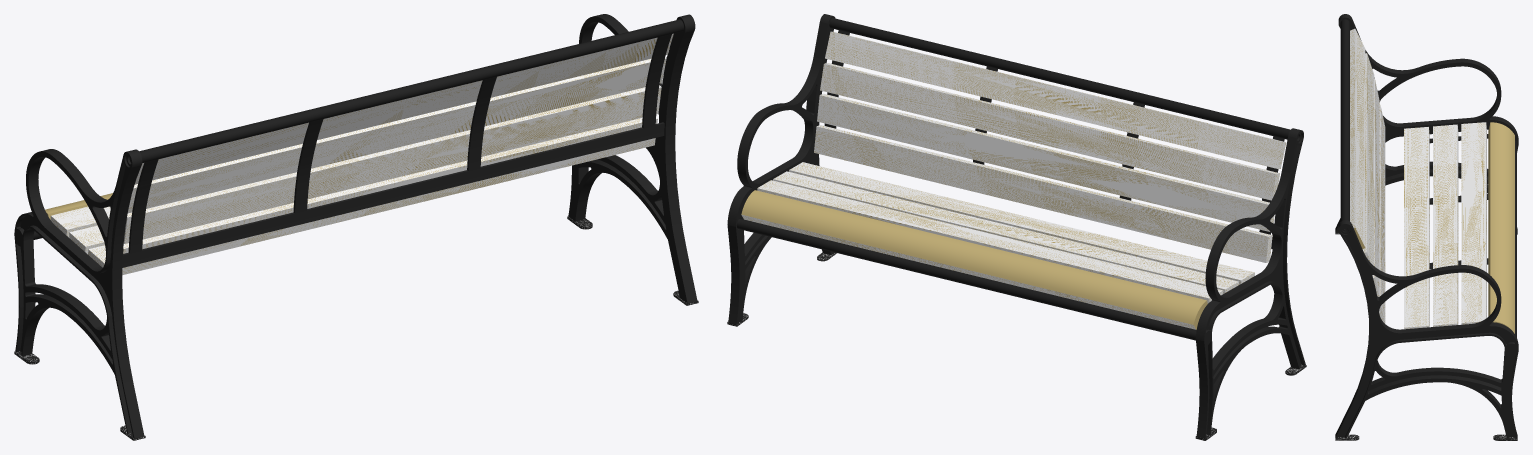
3 views of the same model, side by side, from view 1: azimuth 30°, elevation 25°; view 2: azimuth 150°, elevation 25°; view 3: azimuth 270°, elevation 25° (orthographic). The views are drawn at different scales.
Visible parts, largest first — view 1: mesh4_mesh4-geometry, mesh52_mesh52-geometry, mesh3_mesh3-geometry, mesh14_mesh14-geometry, mesh2_mesh2-geometry, mesh5_mesh5-geometry, mesh36_mesh36-geometry, mesh31_mesh31-geometry, mesh8_mesh8-geometry; view 2: mesh9_mesh9-geometry, mesh3_mesh3-geometry, mesh2_mesh2-geometry, mesh5_mesh5-geometry, mesh4_mesh4-geometry, mesh52_mesh52-geometry, mesh36_mesh36-geometry, mesh8_mesh8-geometry, mesh6_mesh6-geometry, mesh7_mesh7-geometry, mesh31_mesh31-geometry, mesh32_mesh32-geometry (+1 smaller); view 3: mesh36_mesh36-geometry, mesh9_mesh9-geometry, mesh7_mesh7-geometry, mesh8_mesh8-geometry, mesh6_mesh6-geometry, mesh52_mesh52-geometry, mesh2_mesh2-geometry, mesh3_mesh3-geometry, mesh31_mesh31-geometry, mesh5_mesh5-geometry, mesh4_mesh4-geometry, mesh32_mesh32-geometry.
Boxes of the visible parts, left/top/right/bottom form: mesh4_mesh4-geometry: left=123, top=85, right=661, bottom=243; mesh52_mesh52-geometry: left=14, top=149, right=144, bottom=438; mesh3_mesh3-geometry: left=127, top=57, right=666, bottom=213; mesh14_mesh14-geometry: left=122, top=34, right=671, bottom=267; mesh2_mesh2-geometry: left=134, top=33, right=673, bottom=184; mesh5_mesh5-geometry: left=122, top=117, right=657, bottom=275; mesh36_mesh36-geometry: left=568, top=14, right=697, bottom=303; mesh31_mesh31-geometry: left=139, top=19, right=683, bottom=162; mesh8_mesh8-geometry: left=50, top=206, right=110, bottom=237; mesh9_mesh9-geometry: left=741, top=190, right=1207, bottom=329; mesh3_mesh3-geometry: left=820, top=63, right=1279, bottom=200; mesh2_mesh2-geometry: left=825, top=31, right=1286, bottom=168; mesh5_mesh5-geometry: left=814, top=125, right=1272, bottom=262; mesh4_mesh4-geometry: left=817, top=93, right=1274, bottom=231; mesh52_mesh52-geometry: left=1195, top=128, right=1305, bottom=440; mesh36_mesh36-geometry: left=727, top=14, right=835, bottom=325; mesh8_mesh8-geometry: left=757, top=180, right=1223, bottom=303; mesh6_mesh6-geometry: left=789, top=162, right=1254, bottom=284; mesh7_mesh7-geometry: left=773, top=171, right=1238, bottom=293; mesh31_mesh31-geometry: left=829, top=18, right=1290, bottom=139; mesh32_mesh32-geometry: left=736, top=218, right=1196, bottom=340; mesh36_mesh36-geometry: left=1335, top=220, right=1518, bottom=438; mesh9_mesh9-geometry: left=1488, top=122, right=1514, bottom=333; mesh7_mesh7-geometry: left=1433, top=124, right=1458, bottom=326; mesh8_mesh8-geometry: left=1461, top=122, right=1486, bottom=324; mesh6_mesh6-geometry: left=1404, top=127, right=1429, bottom=329; mesh52_mesh52-geometry: left=1335, top=14, right=1518, bottom=232; mesh2_mesh2-geometry: left=1350, top=28, right=1365, bottom=249; mesh3_mesh3-geometry: left=1362, top=53, right=1374, bottom=265; mesh31_mesh31-geometry: left=1340, top=19, right=1349, bottom=221; mesh5_mesh5-geometry: left=1379, top=104, right=1385, bottom=323; mesh4_mesh4-geometry: left=1372, top=78, right=1379, bottom=296; mesh32_mesh32-geometry: left=1515, top=140, right=1516, bottom=337.
Size of the model in its own units: 0.8557 by 0.4105 by 0.3151.
